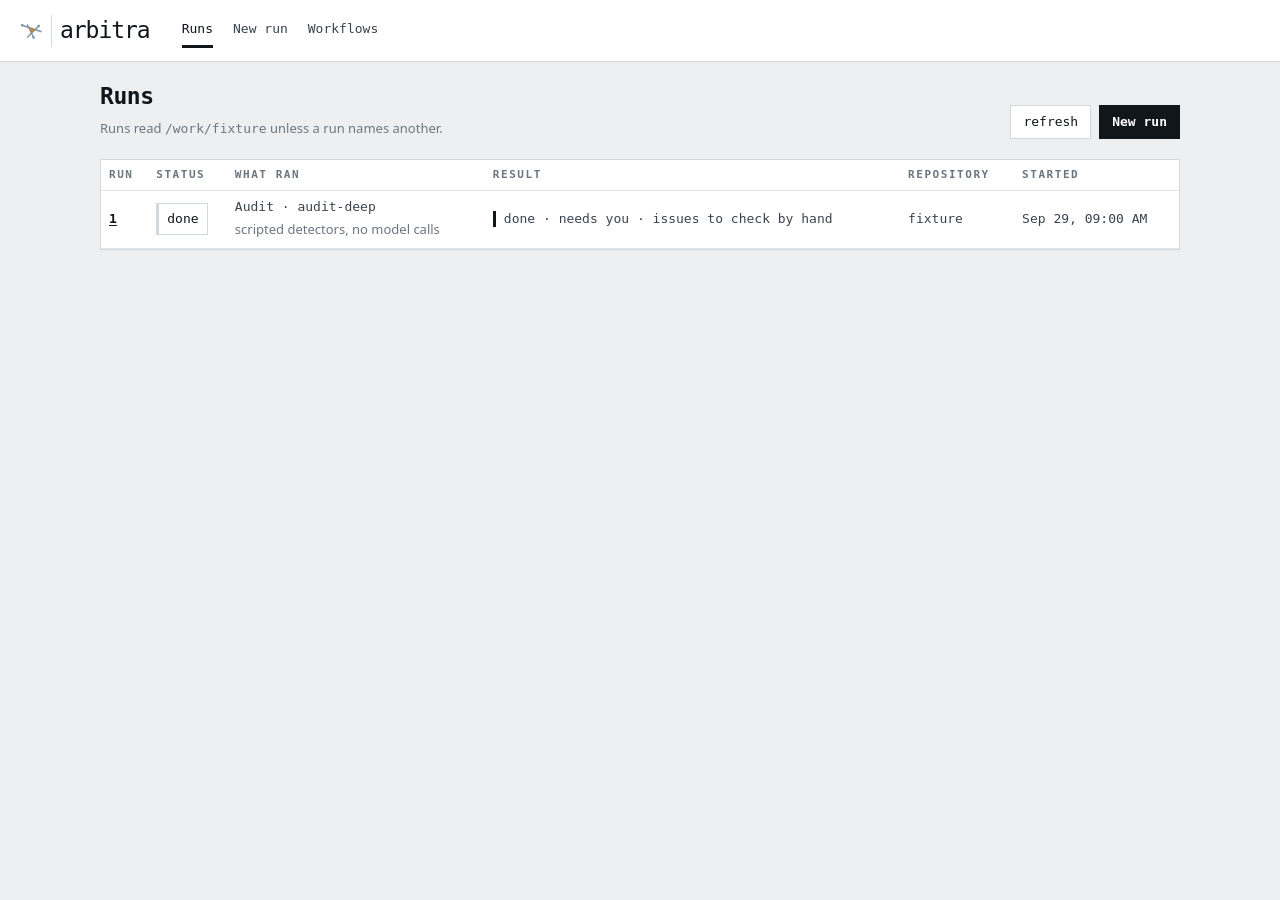
Test: the run list › opens a run from its row and comes back through the main navigation
The width and height of the screenshot is (1280, 900).
Click the link named "open run run-1". click: [113, 219]
box: [109,211,117,226]
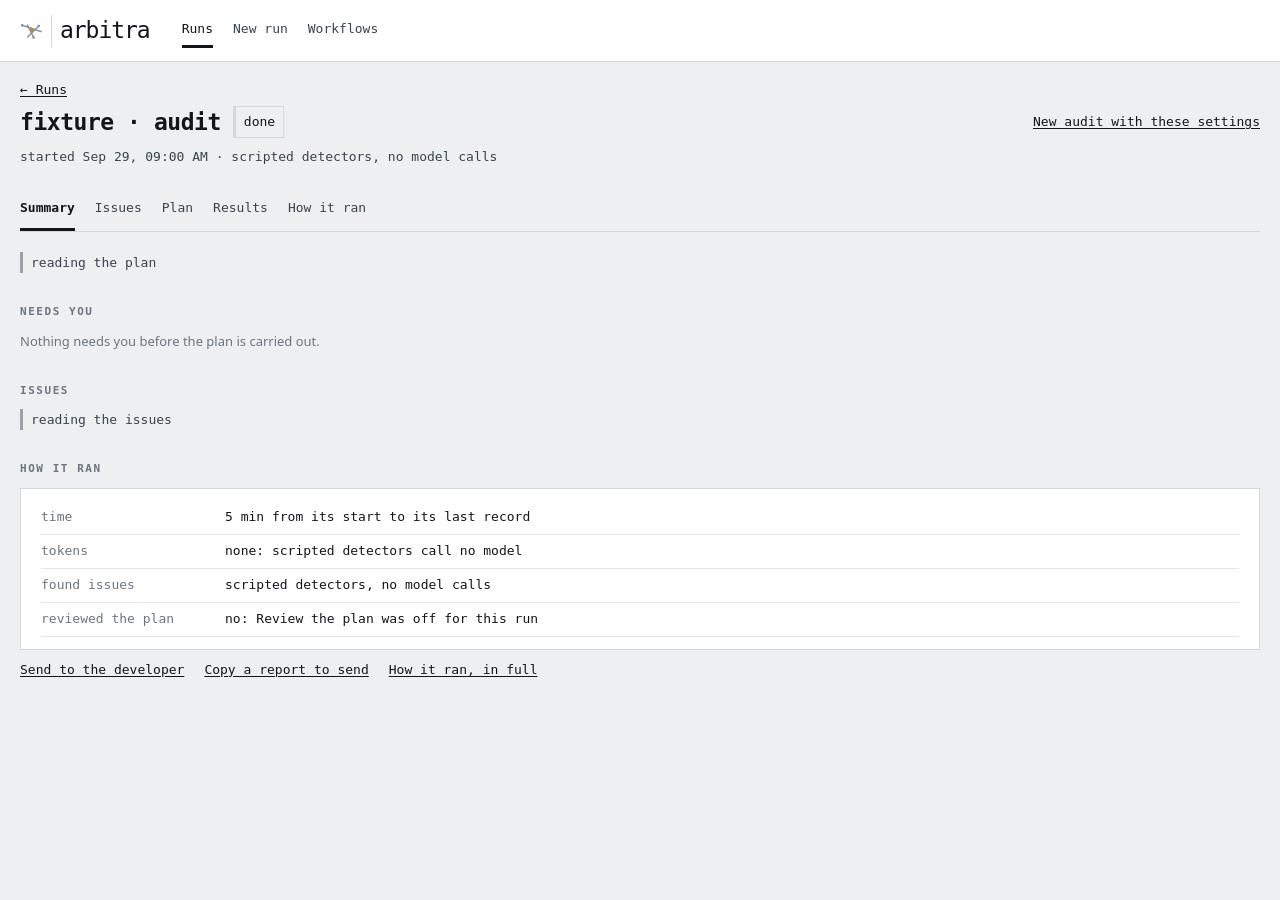
Check: the heading "fixture · audit" is shown, box [20,108,221,136]
Click the link "Runs". click: [197, 31]
box: [182,14,213,48]
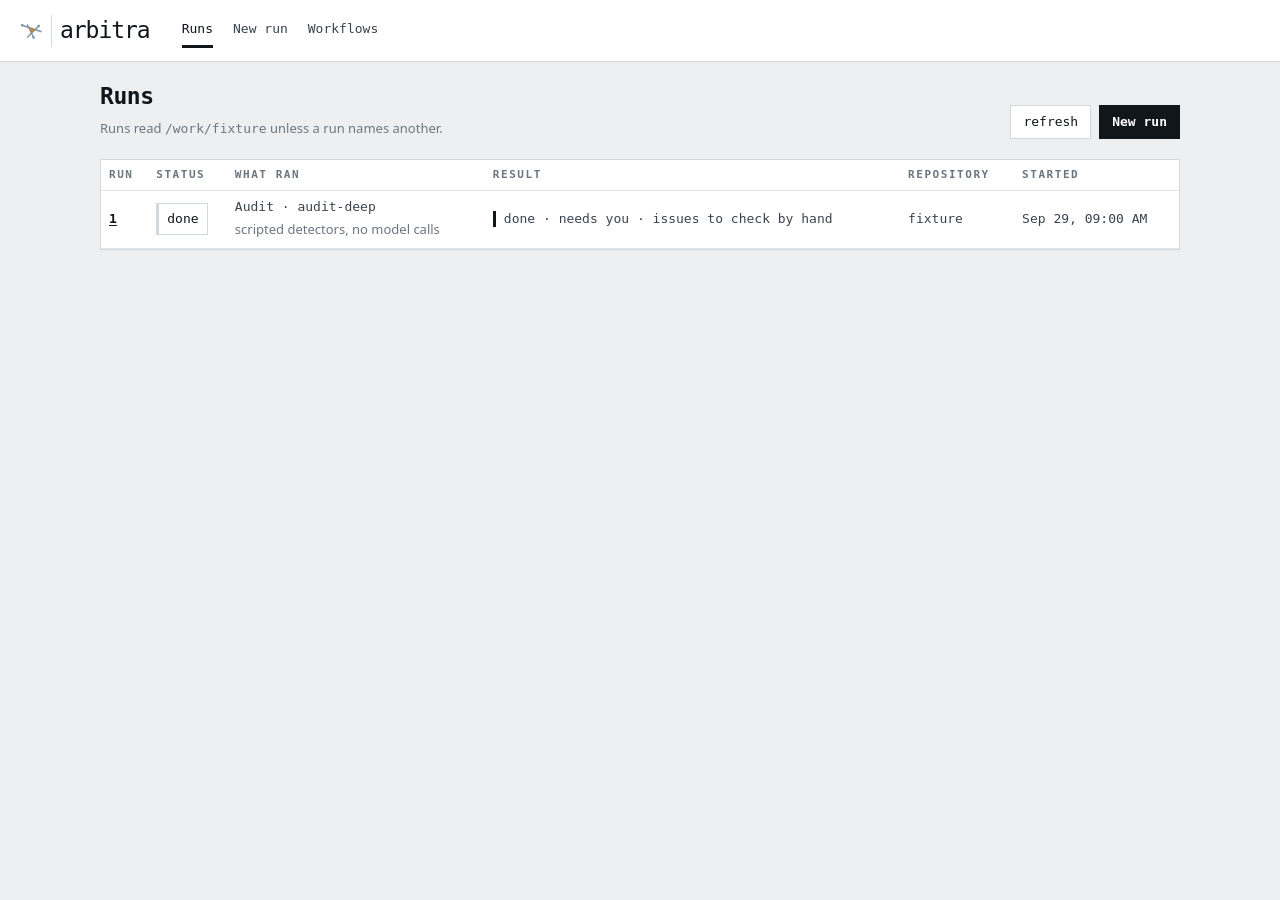
Check: the table named "runs" is shown, box [101,160,1179,249]
